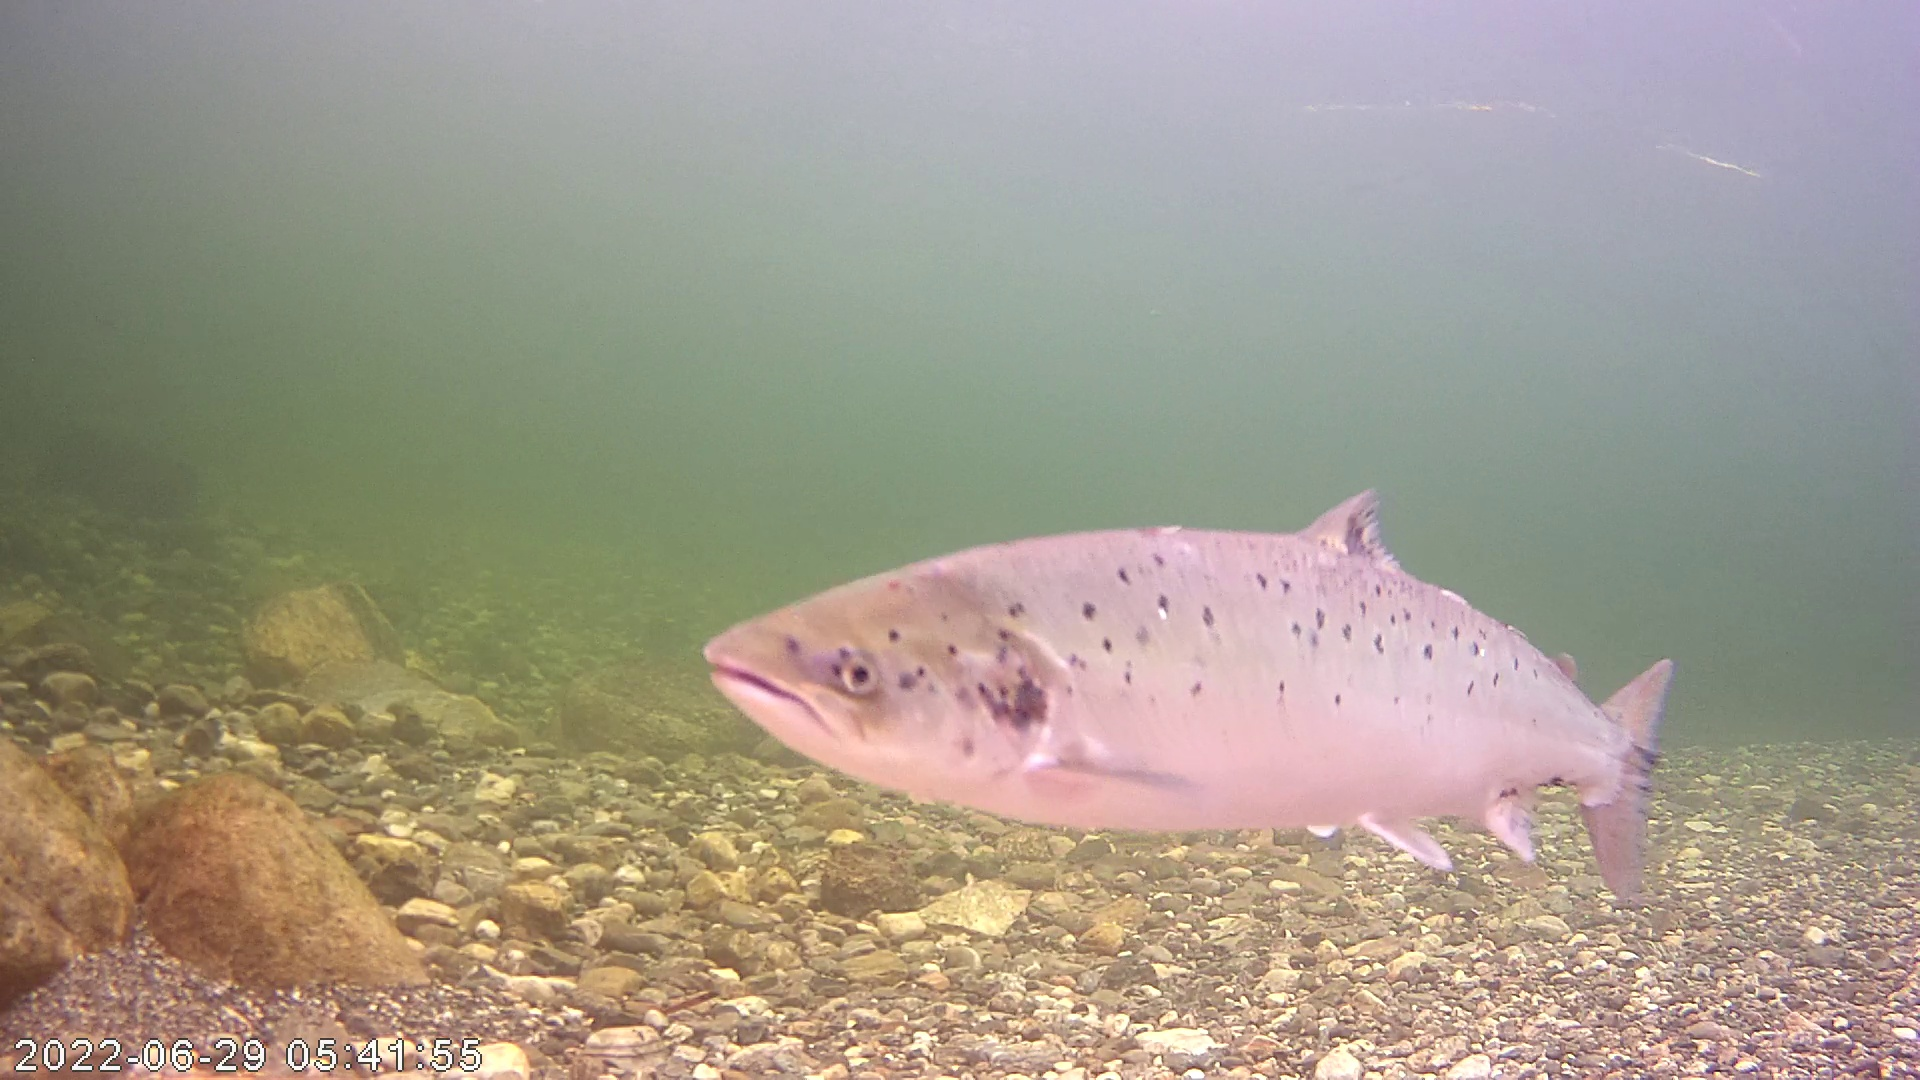salmon: (708, 355, 1687, 855)
